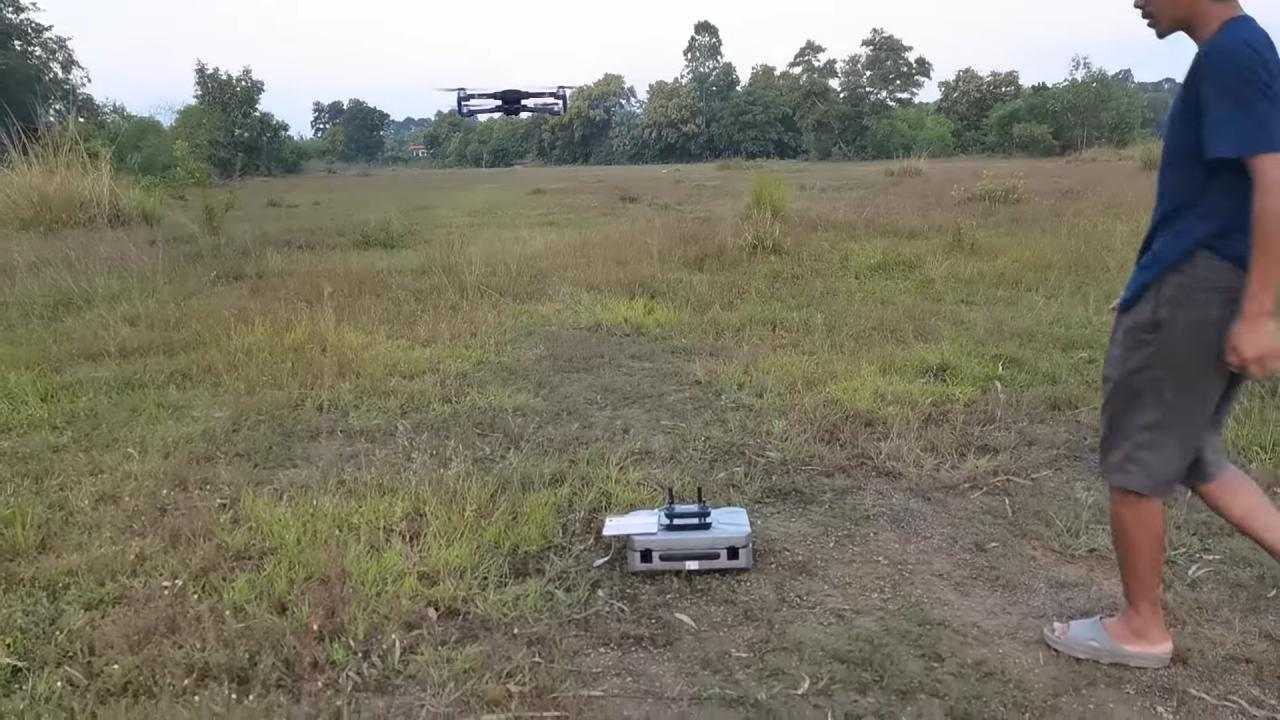Drone: (422, 68, 600, 134)
